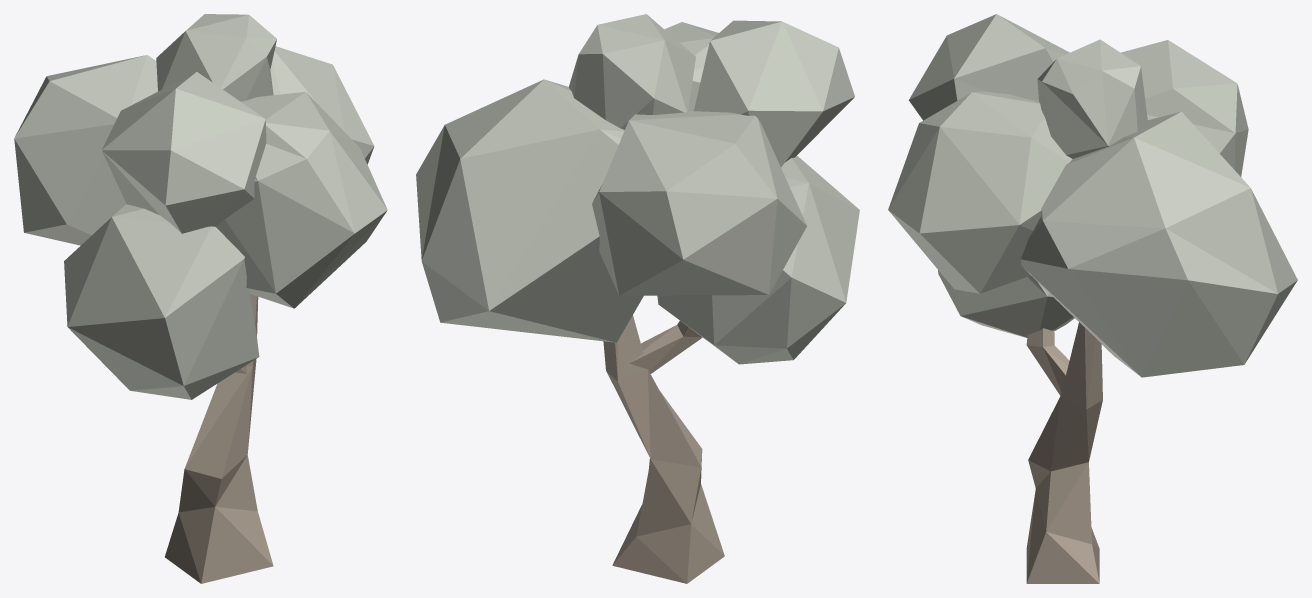
File: ArvoreBloqueada.fbx
3 renders of one model, left to right at view 1: azimuth 30°, elevation 25°; view 2: azimuth 150°, elevation 25°; view 3: azimuth 270°, elevation 25°, orthographic. The views are drawn at different scales.
Parts seen in each view (by area): view 1: arvore_pequena11; view 2: arvore_pequena11; view 3: arvore_pequena11.
Boxes of the visible parts, x1=… form: arvore_pequena11: x1=14, y1=14, x2=387, y2=583; arvore_pequena11: x1=416, y1=14, x2=859, y2=583; arvore_pequena11: x1=888, y1=14, x2=1297, y2=583.
Size of the model in its own units: 7.52 by 10.89 by 7.78.
